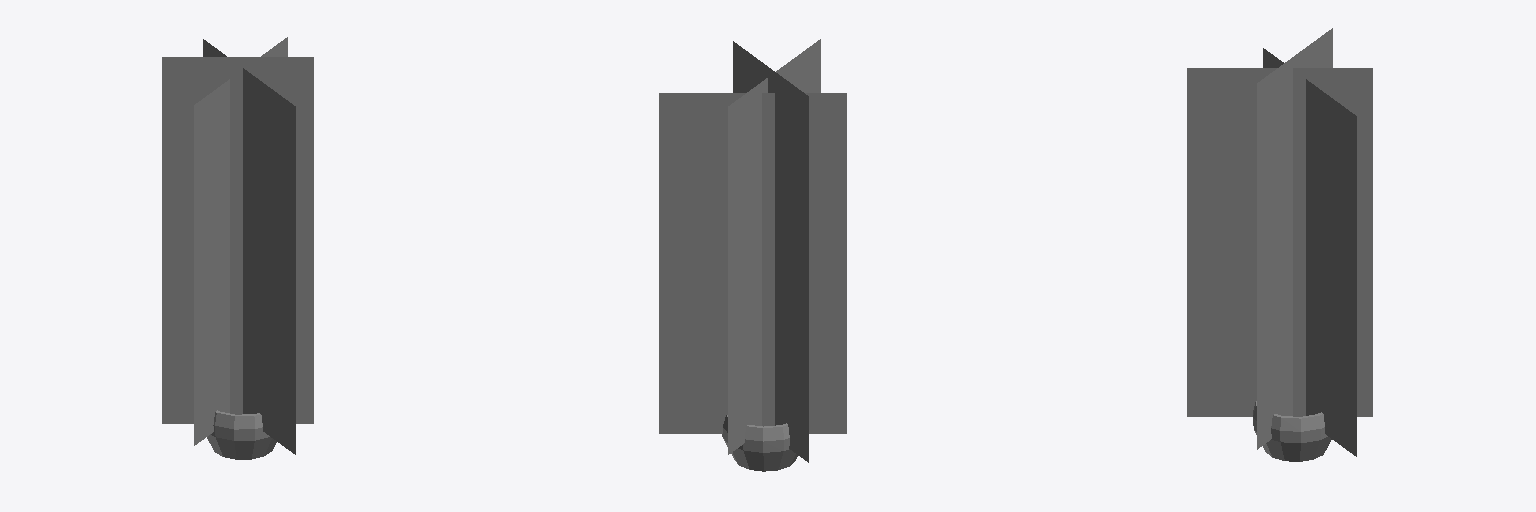
3 views of the same model, side by side, from view 1: azimuth 30°, elevation 25°; view 2: azimuth 150°, elevation 25°; view 3: azimuth 270°, elevation 25° (orthographic).
Visible parts, largest first — view 1: lwpgf06; view 2: lwpgf06; view 3: lwpgf06.
Boxes of the visible parts, <box> form: lwpgf06: <box>162,37,313,459</box>; lwpgf06: <box>659,39,846,471</box>; lwpgf06: <box>1187,28,1372,461</box>.
Bounding box in the file's own units: 0.7518 × 1.99 × 0.8594.